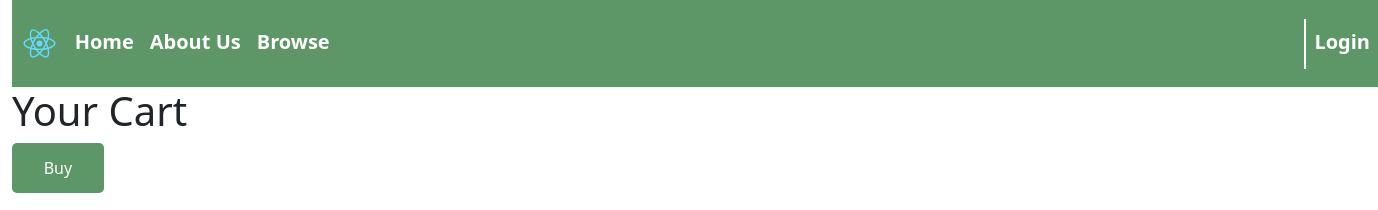
it: Can't click buy button when already buying
What coordinates should you click on to do the following:
click the button "Buy"
I would click on:
 (58, 168)
Its box is [12,143,104,193].
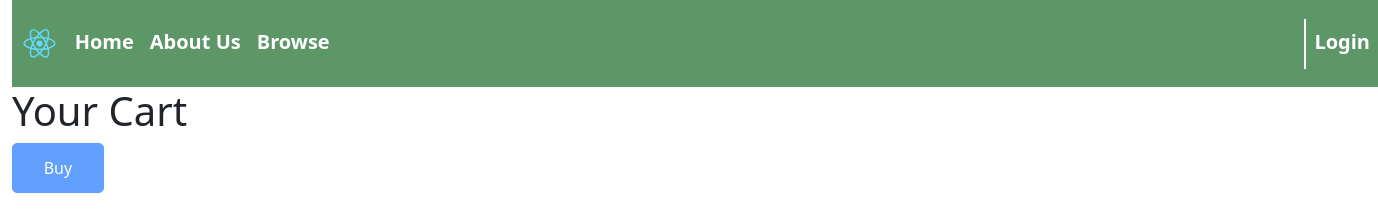
Check: the button "Buy" is disabled, box [12,143,104,193]
